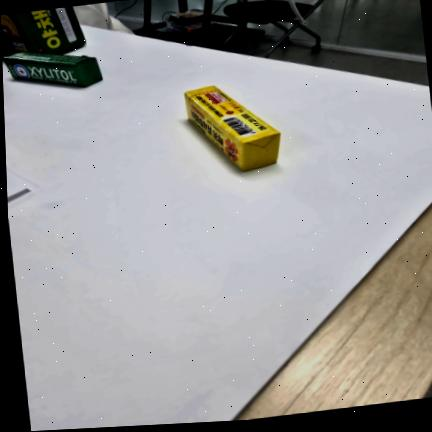gum_green: (3, 52, 102, 86)
gum_yellow: (184, 86, 280, 171)
